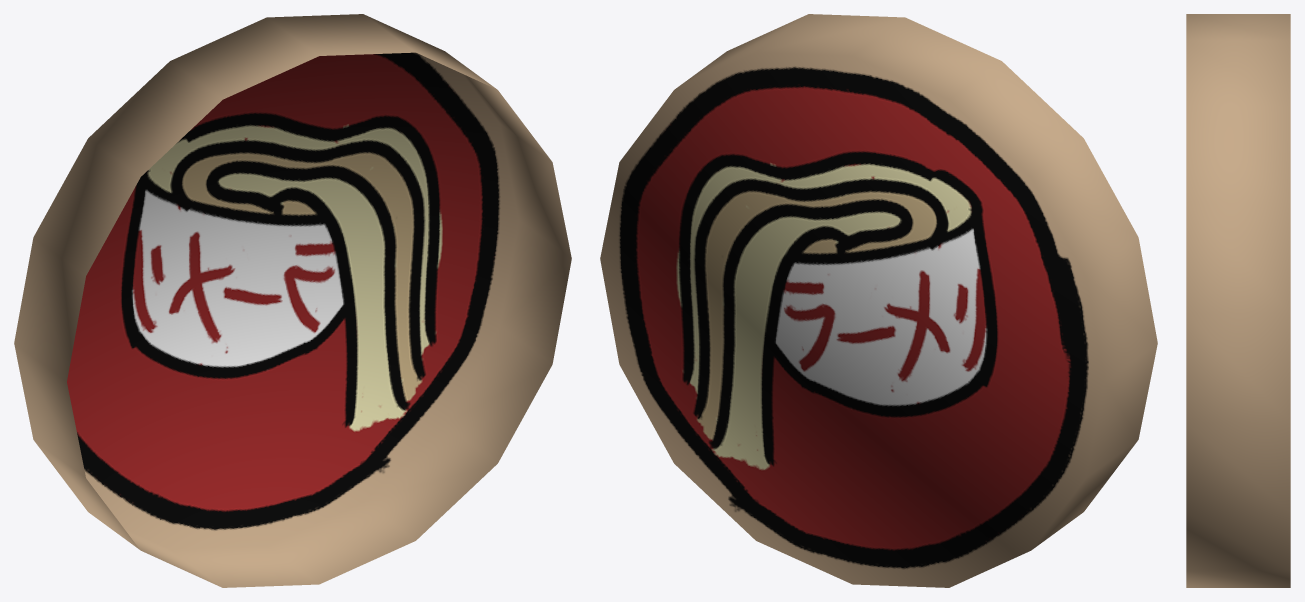
Rendered from ramen sign.fbx.
3 views of the same model, side by side, from view 1: azimuth 30°, elevation 25°; view 2: azimuth 150°, elevation 25°; view 3: azimuth 270°, elevation 25° (orthographic).
Parts seen in each view (by area): view 1: Ramen_Sign; view 2: Ramen_Sign; view 3: Ramen_Sign.
Boxes of the visible parts, <box> form: Ramen_Sign: <box>14,14,571,587</box>; Ramen_Sign: <box>600,14,1157,587</box>; Ramen_Sign: <box>1186,14,1290,587</box>.
Size of the model in its own units: 200 by 200 by 36.21.
